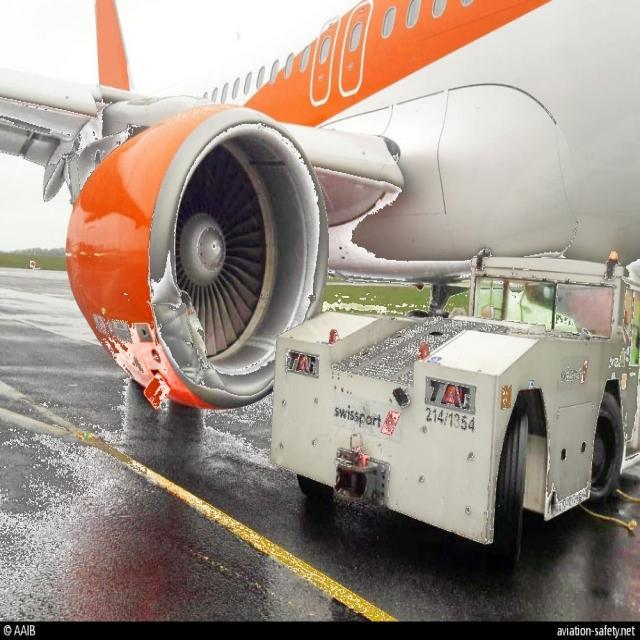crack: (180, 290, 211, 374)
